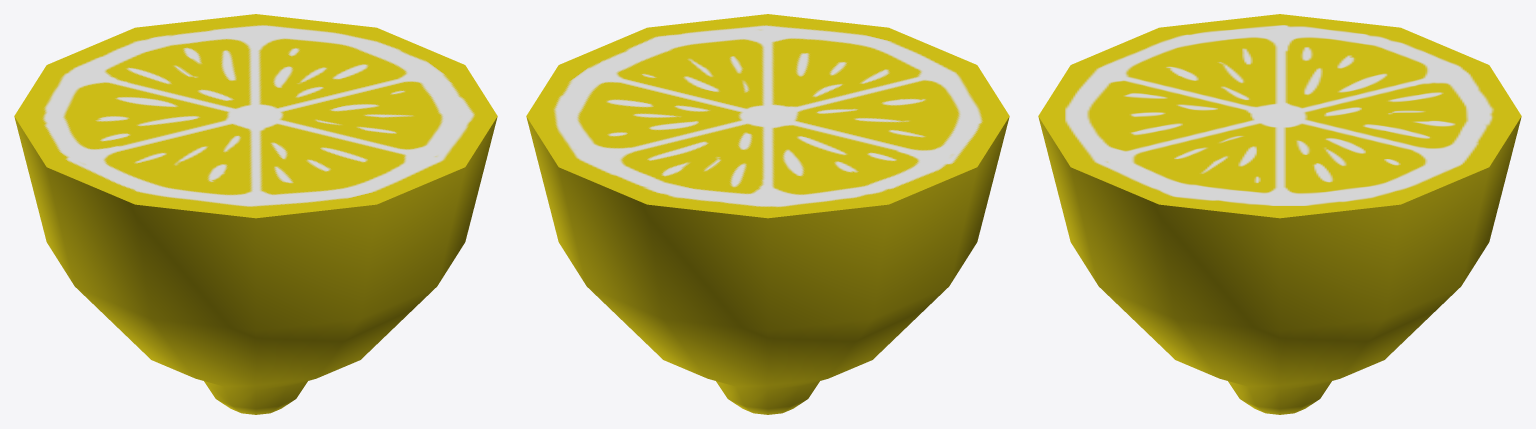
File: Qua chanh cat nua.FBX
3 renders of one model, left to right at view 1: azimuth 30°, elevation 25°; view 2: azimuth 150°, elevation 25°; view 3: azimuth 270°, elevation 25°, orthographic.
Visible parts, largest first — view 1: Sphere042; view 2: Sphere042; view 3: Sphere042.
Part boxes in pixels (x1,y1,x2,y2): Sphere042: (14,14,497,414); Sphere042: (526,14,1009,414); Sphere042: (1038,14,1521,414).
Size of the model in its own units: 1.66 by 1.12 by 1.66.
